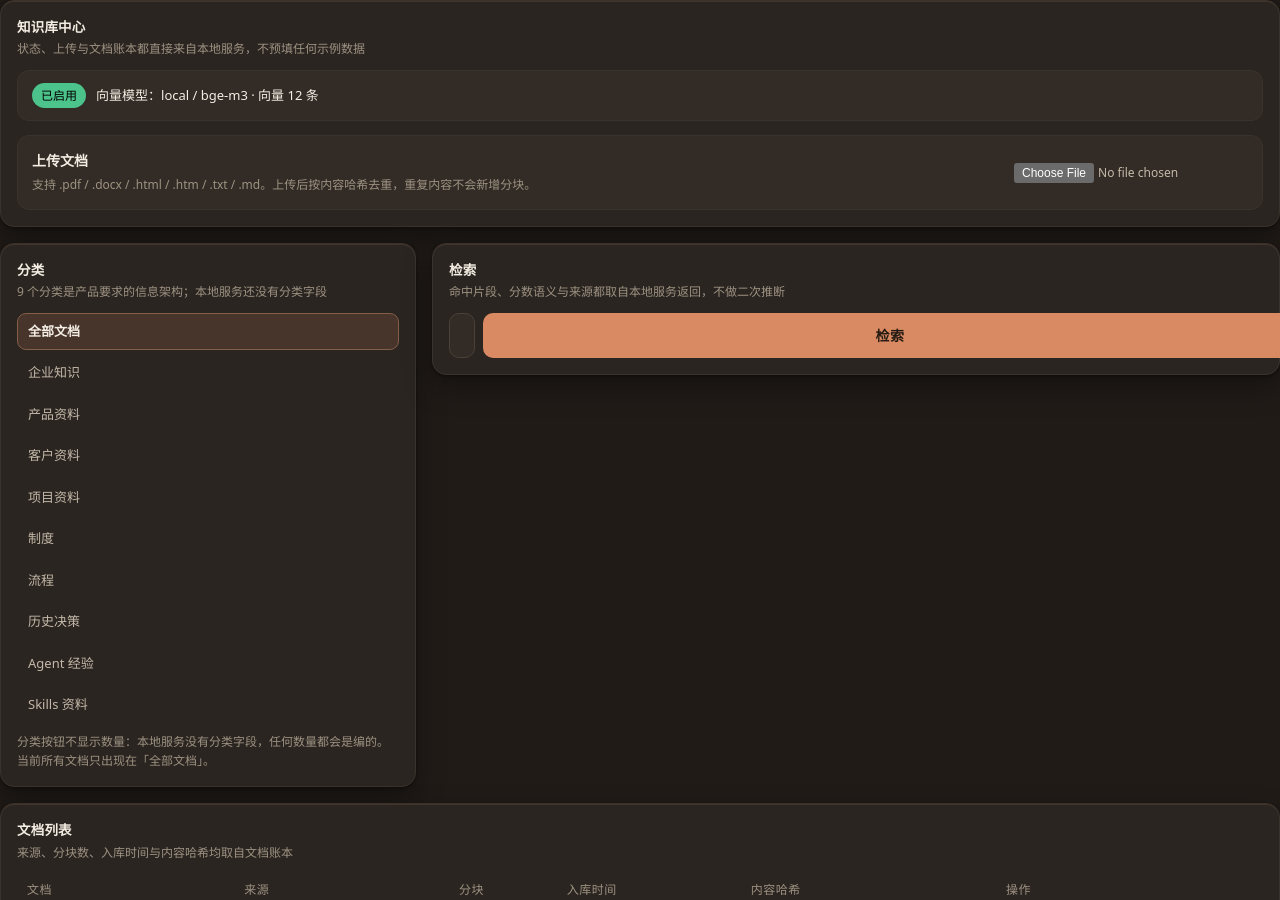
知识库中心 › 文档列表显示来源与入库时间，分类视图如实说明本地服务缺口
This screenshot has width=1280, height=900.
Click the button "客户资料". click: (54,455)
box: [17,437,399,475]
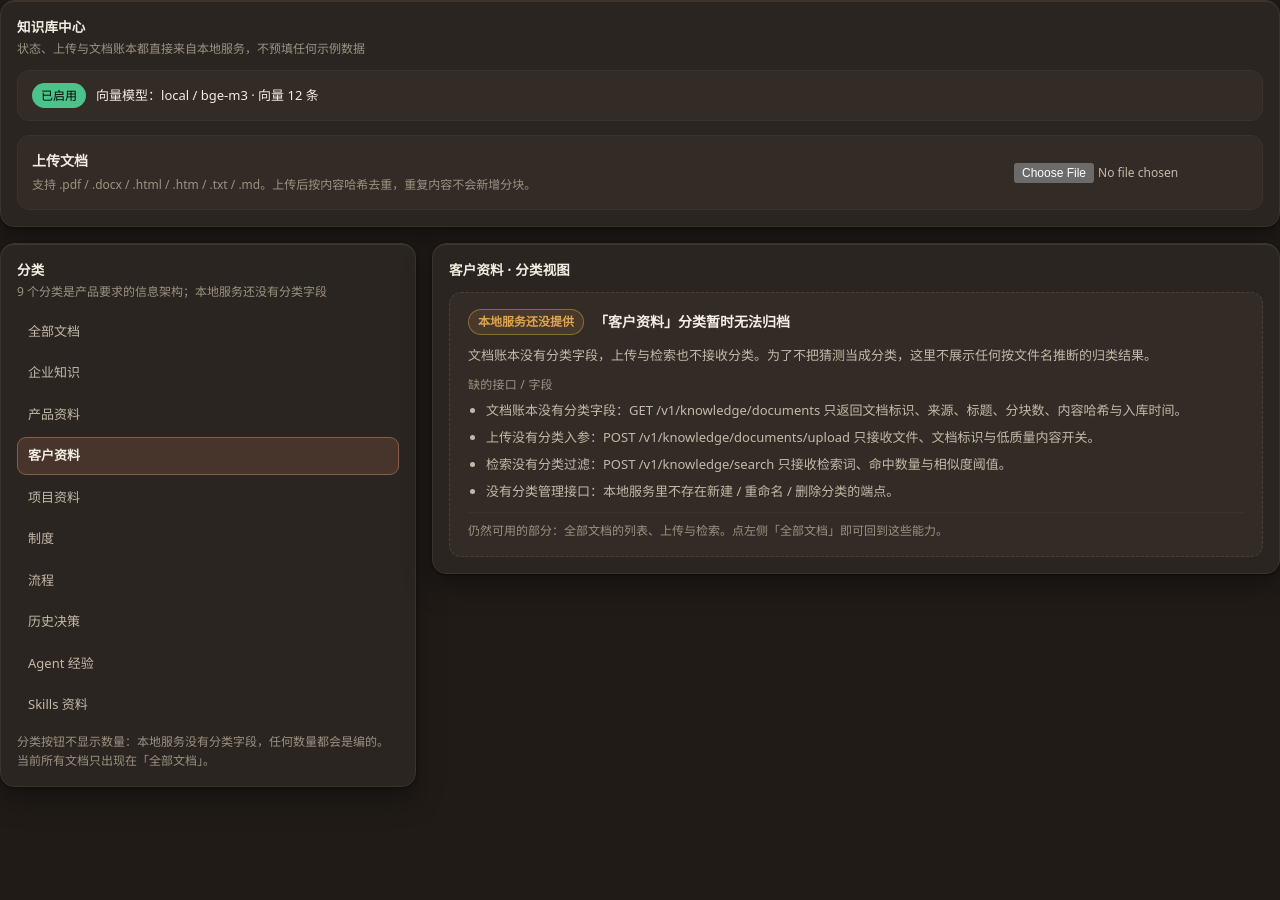
Now the text "「客户资料」分类暂时无法归档" is shown, box [594,311,790,332]
Now the text "本地服务还没提供" is shown, box [468,309,584,335]
Now the list item "GET /v1/knowledge/documents 只返回" is shown, box [486,401,1188,419]
Click the button "全部文档". click: (54,331)
box: [17,313,399,350]
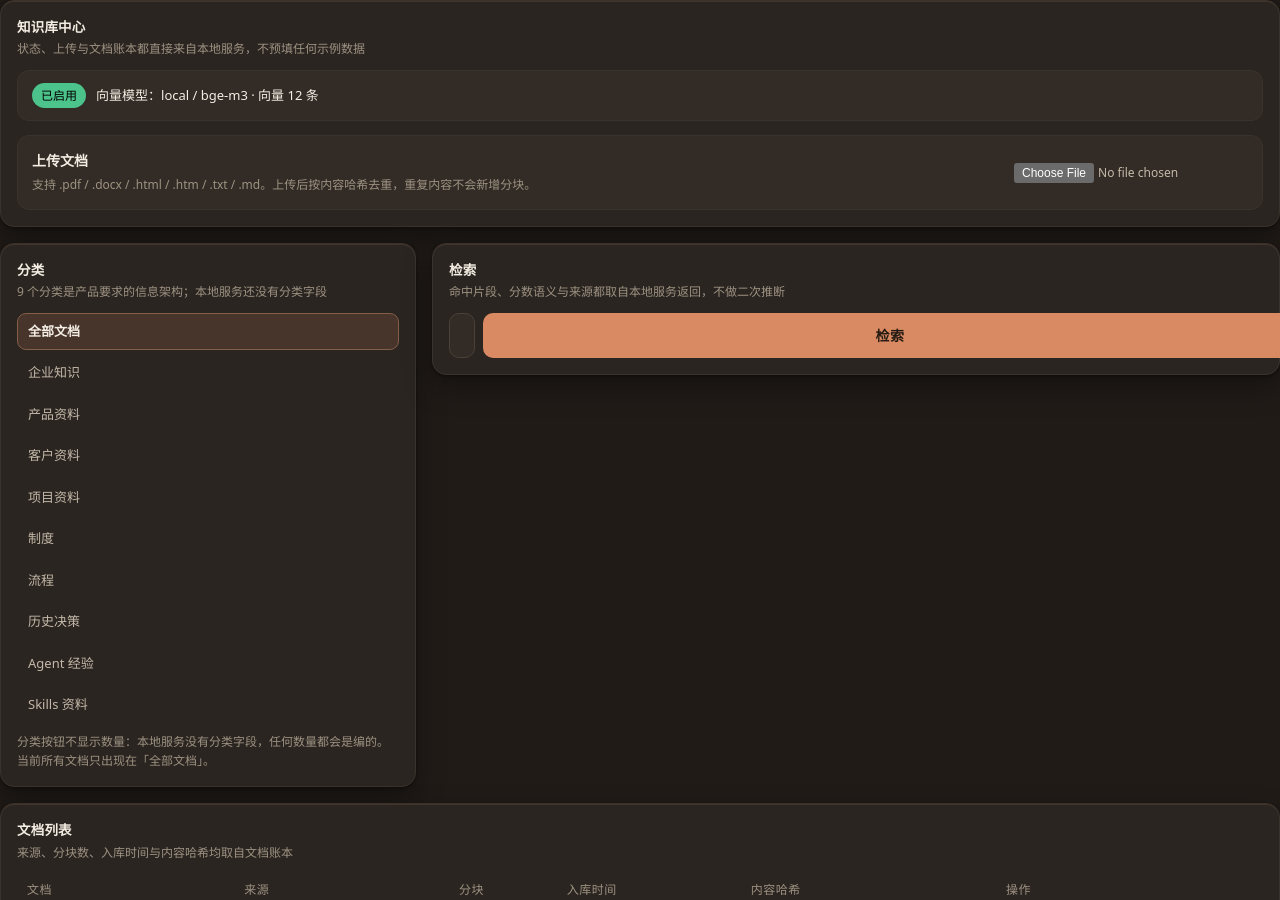
Now the field named "知识库检索输入" is shown, box [449,313,475,358]
